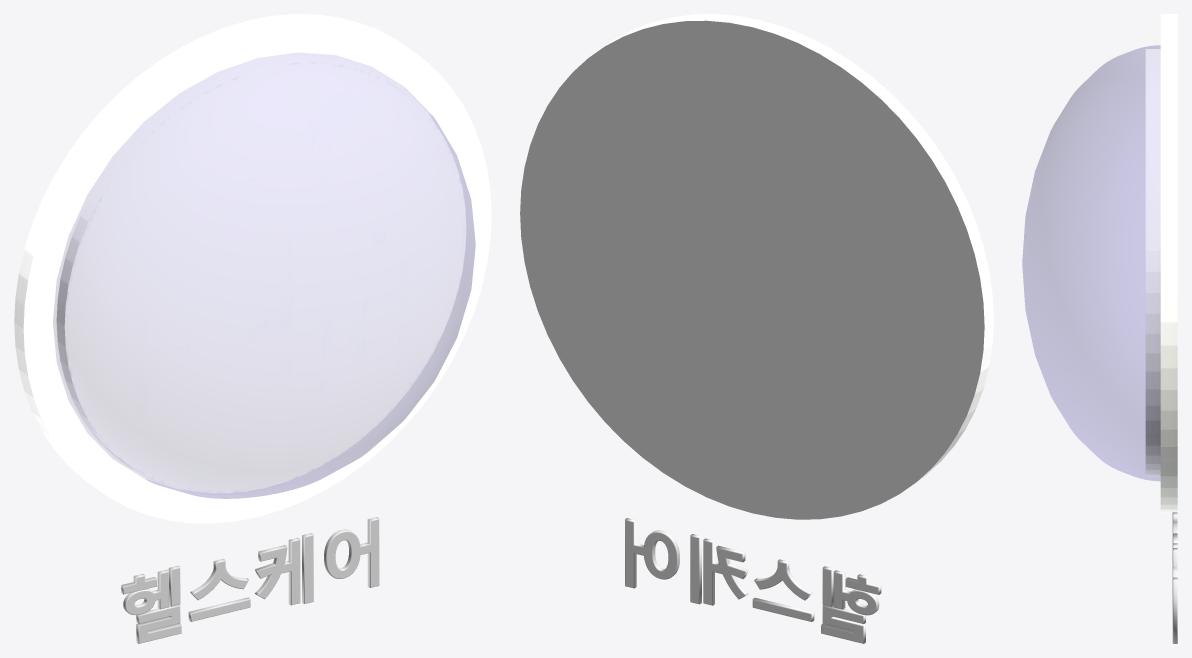
Rendered from button-f.glb.
3 views of the same model, side by side, from view 1: azimuth 30°, elevation 25°; view 2: azimuth 150°, elevation 25°; view 3: azimuth 270°, elevation 25° (orthographic). The views are drawn at different scales.
Parts seen in each view (by area): view 1: Sphere.006, Cylinder.014, Cylinder.012, Text.072; view 2: Cylinder.012, Text.072; view 3: Sphere.006, Cylinder.012, Cylinder.014, Text.072.
Part boxes in pixels (box(x1,y1,x2,y2)): Sphere.006: box(53, 53, 475, 498); Cylinder.014: box(56, 56, 466, 493); Cylinder.012: box(14, 14, 491, 523); Text.072: box(121, 517, 379, 643); Cylinder.012: box(520, 14, 993, 519); Text.072: box(625, 518, 881, 643); Sphere.006: box(1022, 45, 1160, 480); Cylinder.012: box(1160, 14, 1177, 512); Cylinder.014: box(1145, 49, 1160, 476); Text.072: box(1172, 512, 1177, 643).
Bounding box in the file's own units: 0.2199 × 0.267 × 0.0686.
